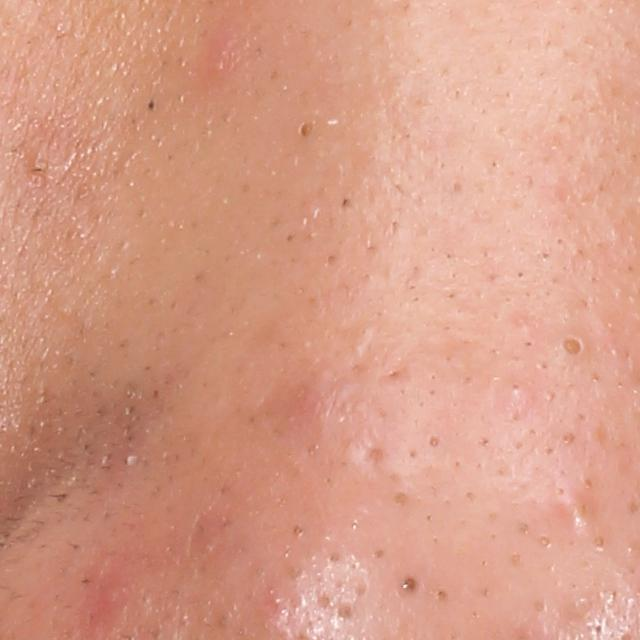atrophic_scar: (365, 445, 387, 464)
comedo: (554, 331, 588, 360), (294, 117, 318, 141), (396, 575, 421, 596), (426, 430, 444, 451)
